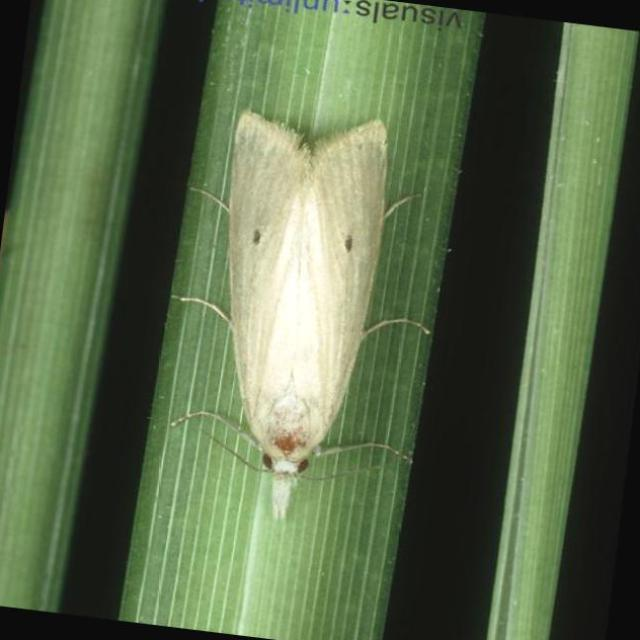stem borer: (171, 111, 430, 517)
